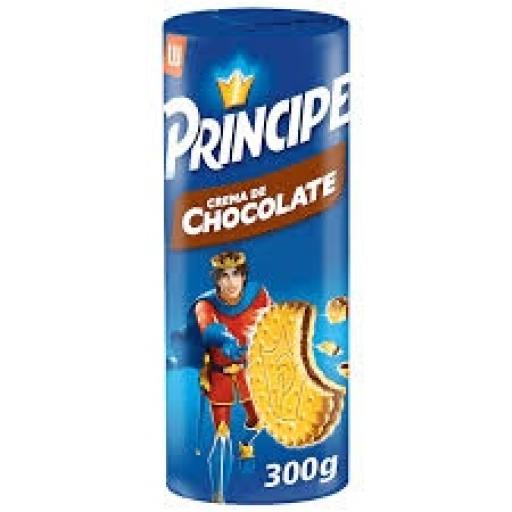prince: (127, 4, 420, 512)
